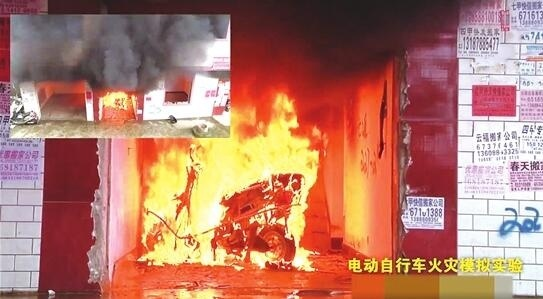fire: (136, 92, 324, 273), (100, 90, 134, 109)
